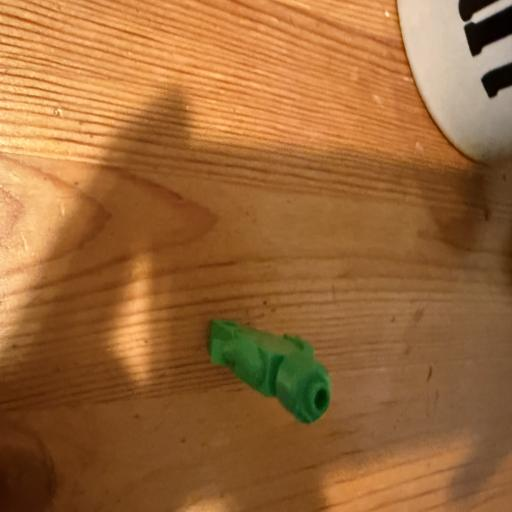Minifig: (208, 319, 331, 423)
